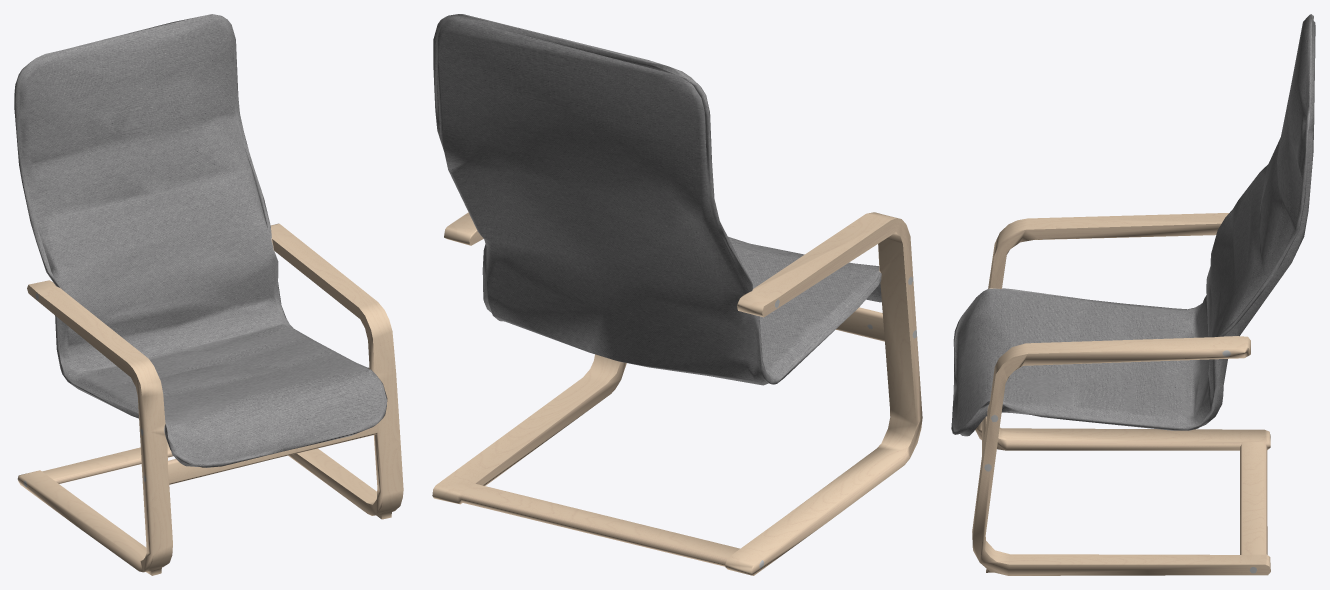
The model's file is arsunda_fotel_00535894.glb.
3 renders of one model, left to right at view 1: azimuth 30°, elevation 25°; view 2: azimuth 150°, elevation 25°; view 3: azimuth 270°, elevation 25°, orthographic. The views are drawn at different scales.
Parts seen in each view (by area): view 1: arsunda_fotel_00535894; view 2: arsunda_fotel_00535894; view 3: arsunda_fotel_00535894.
Boxes of the visible parts, <box> form: arsunda_fotel_00535894: <box>14,14,403,575</box>; arsunda_fotel_00535894: <box>432,14,922,575</box>; arsunda_fotel_00535894: <box>951,14,1315,575</box>.
Bounding box in the file's own units: 0.6672 × 1.02 × 0.7503.
1 material, 1 textured.
